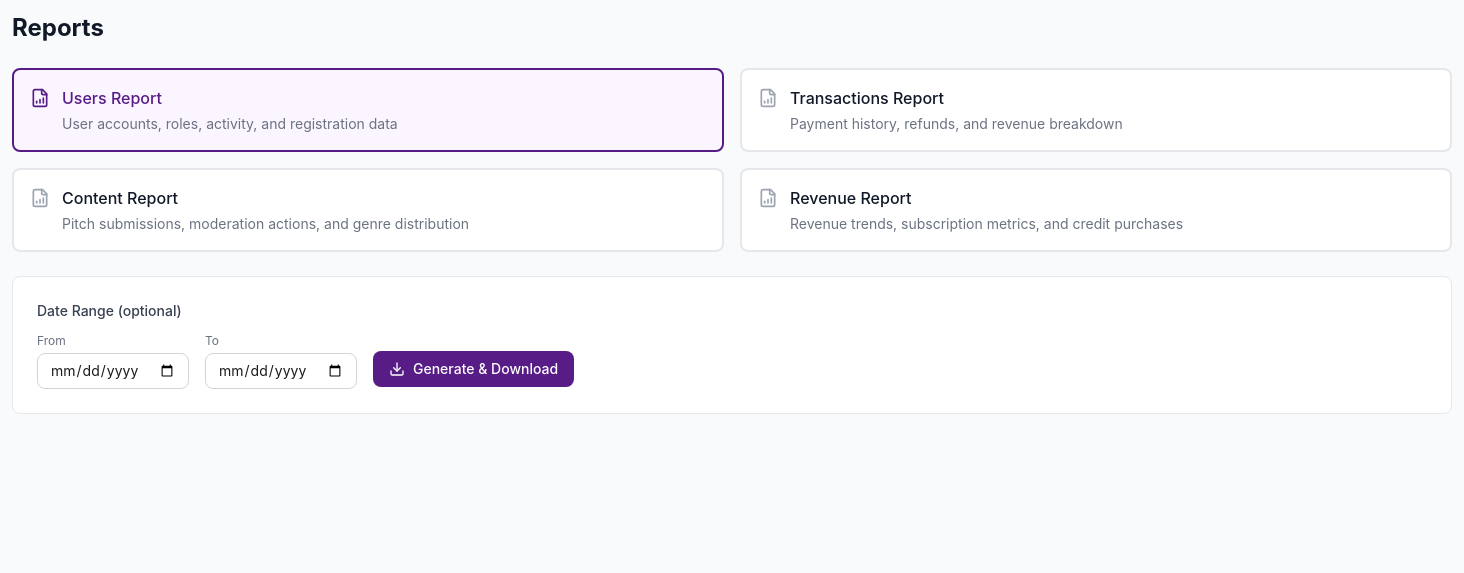
it: AdminReports › Download History › shows the filename in download history
The image size is (1464, 573).
Click the button "Generate & Download" at (474, 369), box [373,351,574,387]
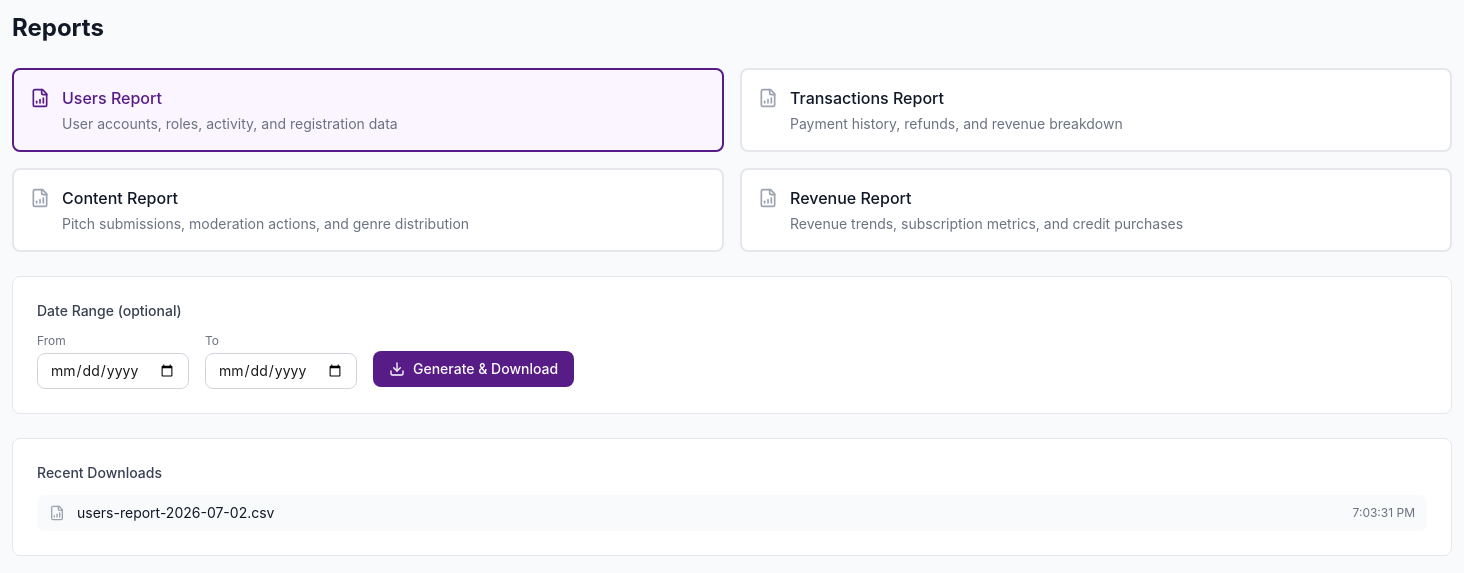
Expected: the text "users-report-2026-07-02.csv" is shown, [77,503,274,523]
